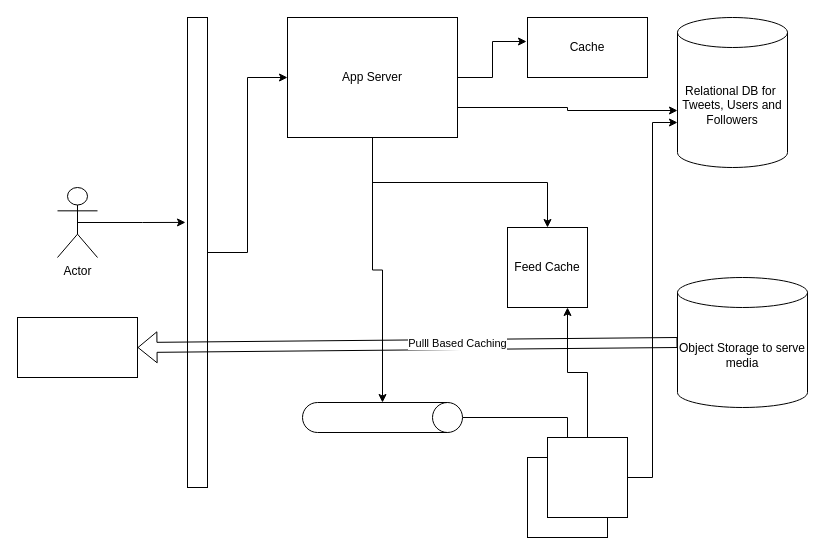
This 825x555 diagram has some shape labels left out. The box of each missing label's shape, as (x1, y1, x2, y2) in pixels:
CDN: (16, 316, 138, 378)
Pub Sub Queue: (302, 402, 462, 432)
Workers: (546, 436, 628, 518)
